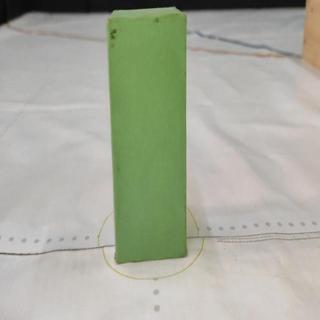greenbox: (104, 6, 187, 264)
